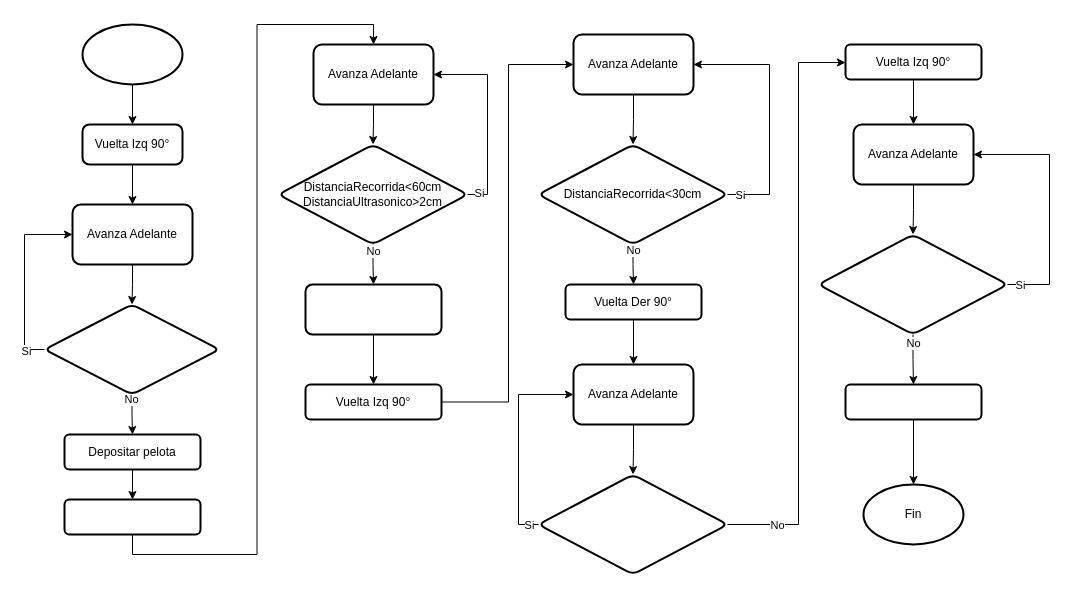
This 1075x593 diagram has some shape labels left out. Each missing label, with the centre of its shape:
Bajar Brazo Recoger pelota Depositar pelota: the point at 373,309
Bajar Brazo Remover pelota: the point at 913,401
DistanciaRecorrida<10cm: the point at 632,524
DistanciaRecorrida<30cm DistanciaUltrasonico>2cm: the point at 131,349
DistanciaRecorrida<30cm DistanciaUltrasonico>5cm: the point at 912,284
Inicio: the point at 132,54
Vuelta Der 180°: the point at 132,516
